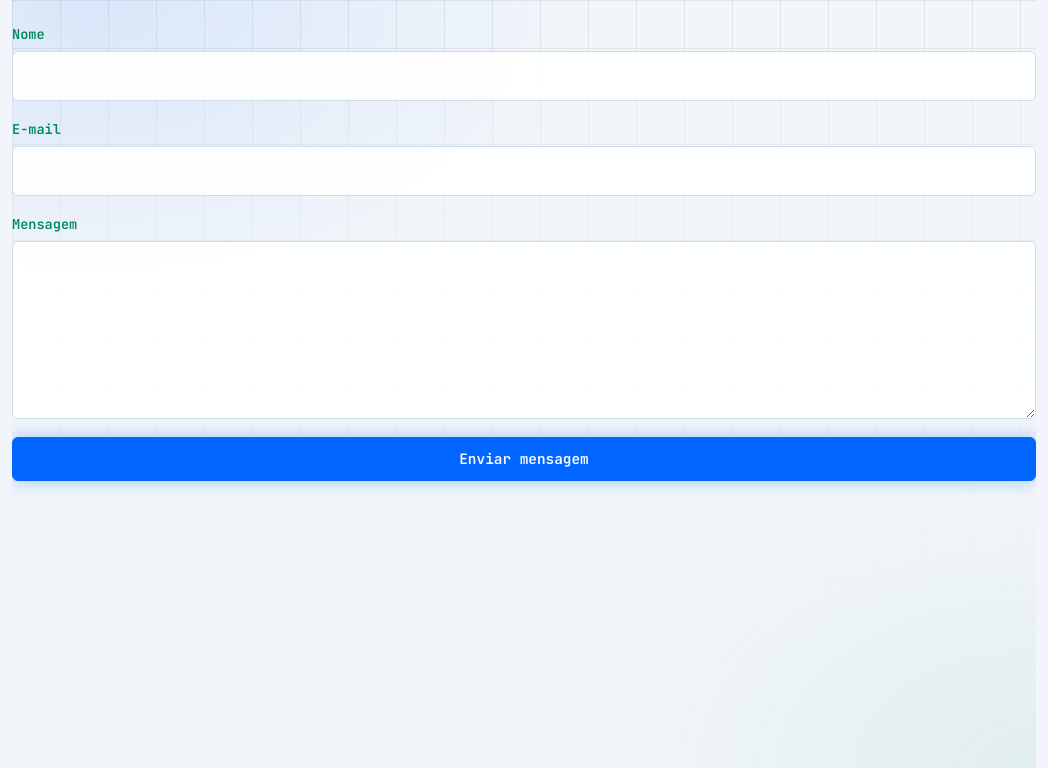
Scenario: ContactForm › mostra feedback de erro quando o envio falha
In the field labelled "Nome": (524, 76) [12, 51, 1036, 101], type "Maria Silva"
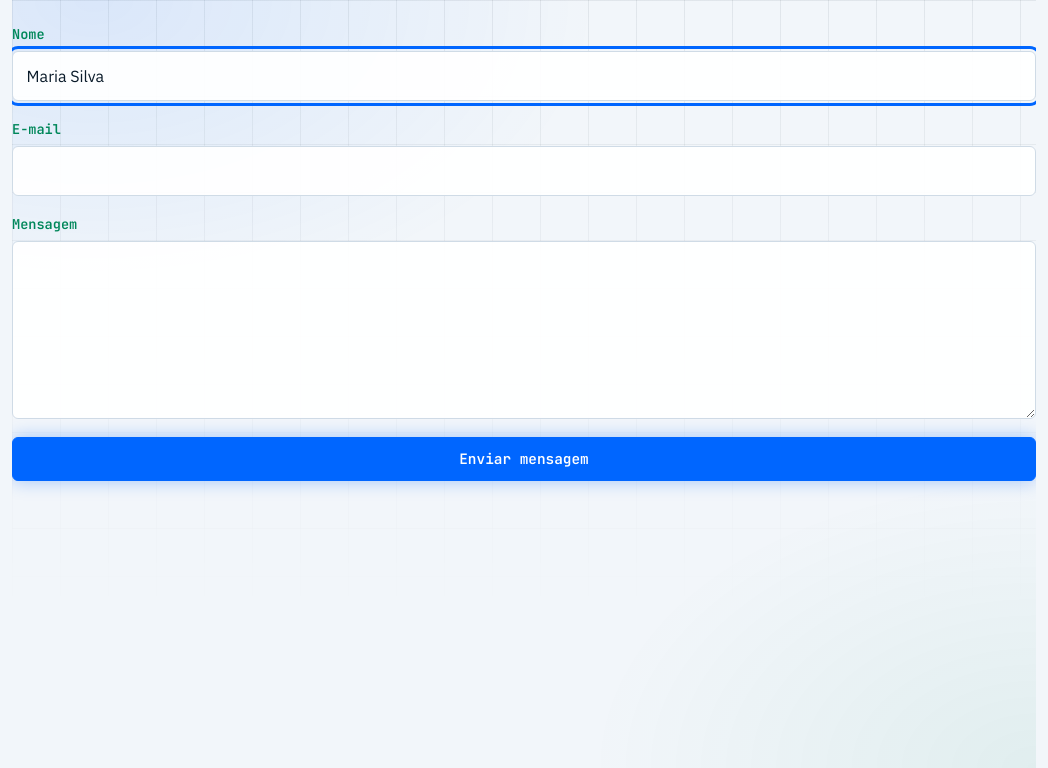
In the field labelled "E-mail": (524, 171) [12, 146, 1036, 196], type "maria@exemplo.com"
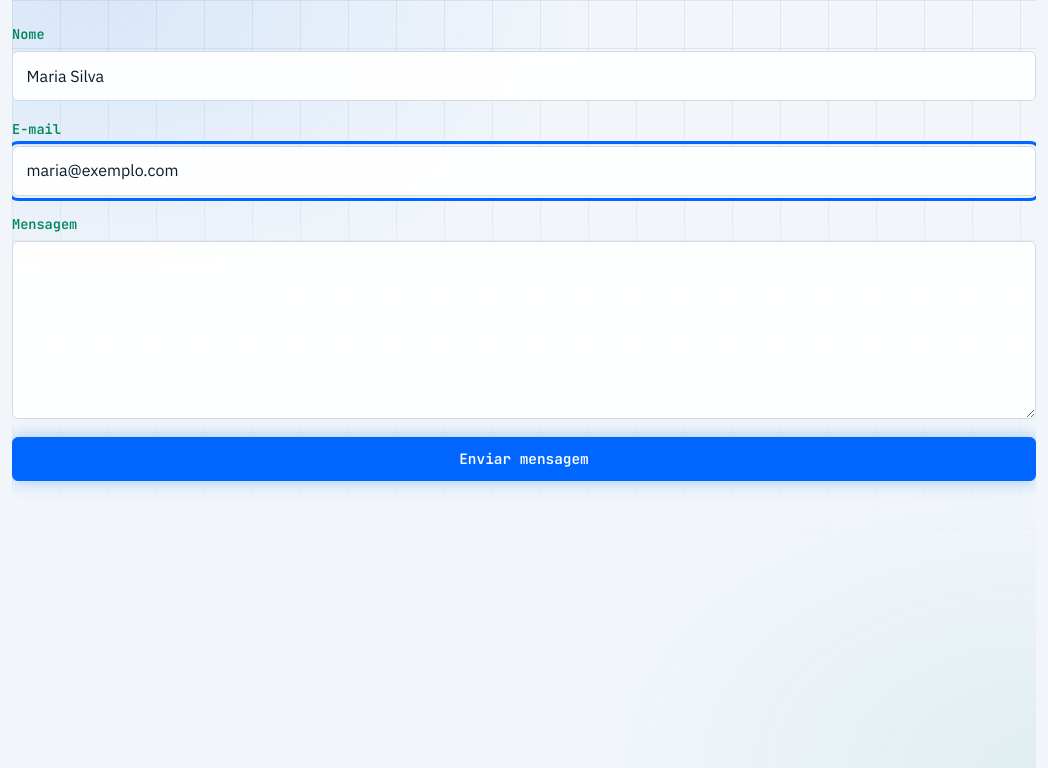
In the text box labelled "Mensagem": (524, 330) [12, 241, 1036, 419], type "Gostei muito do seu portfólio, vamos conversar?"
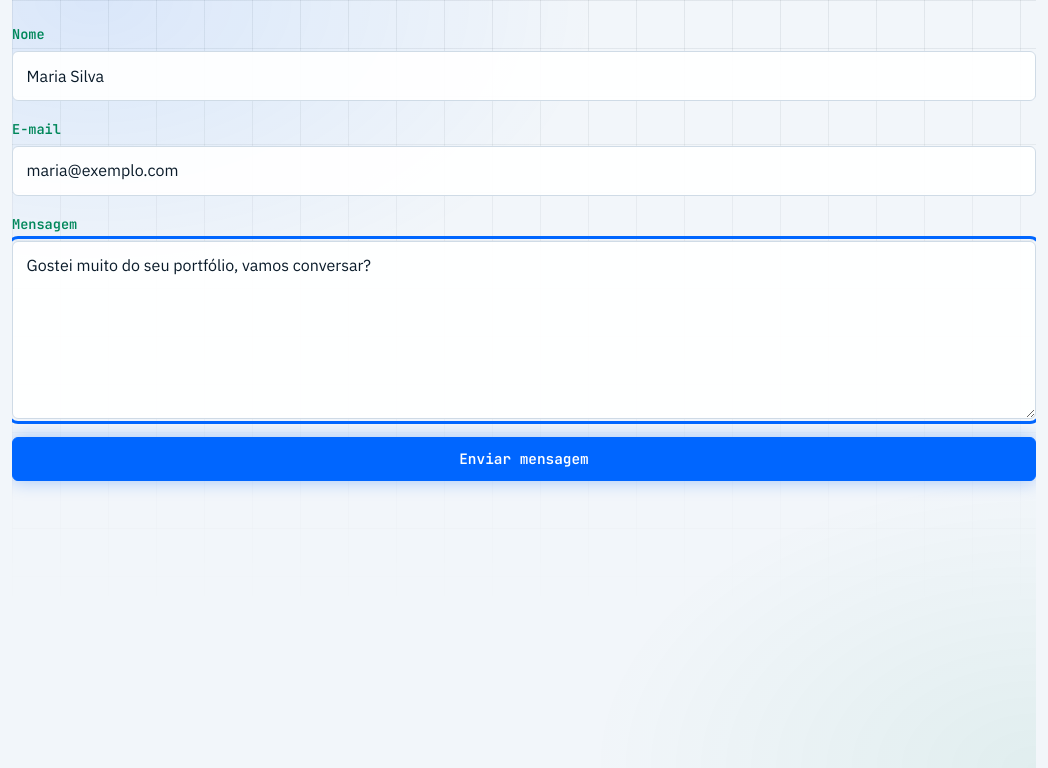
Click the button "Enviar mensagem": (524, 459) [12, 437, 1036, 481]
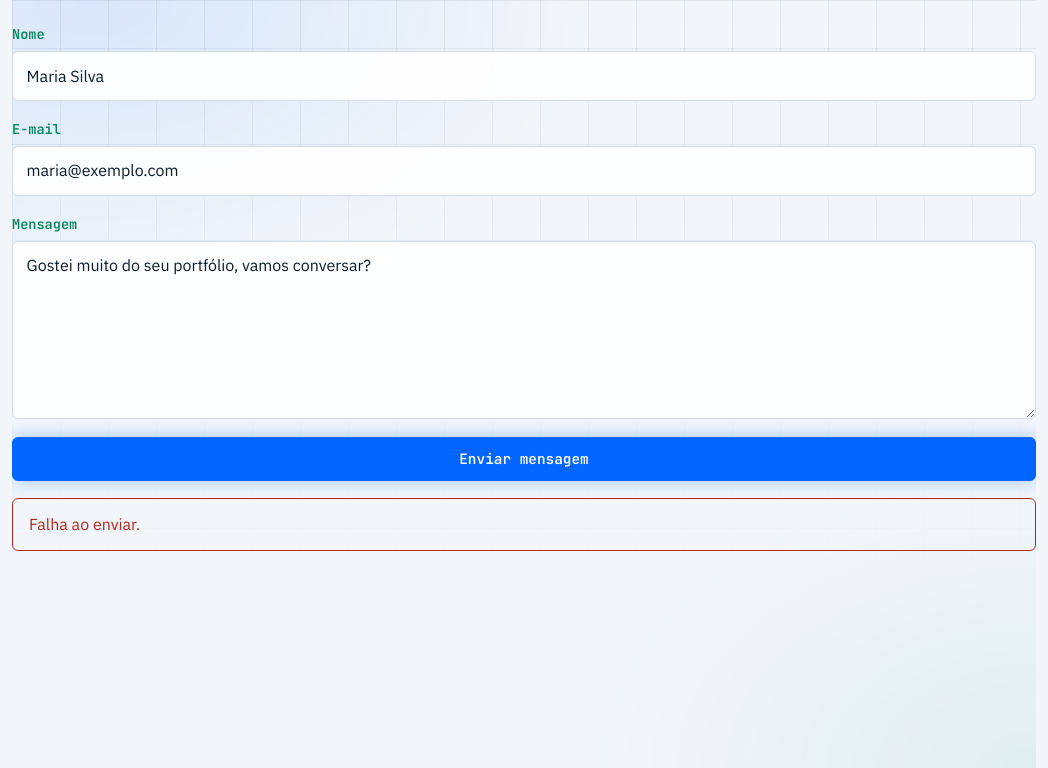
Now the text "Falha ao enviar." is shown, box [12, 498, 1036, 552]
